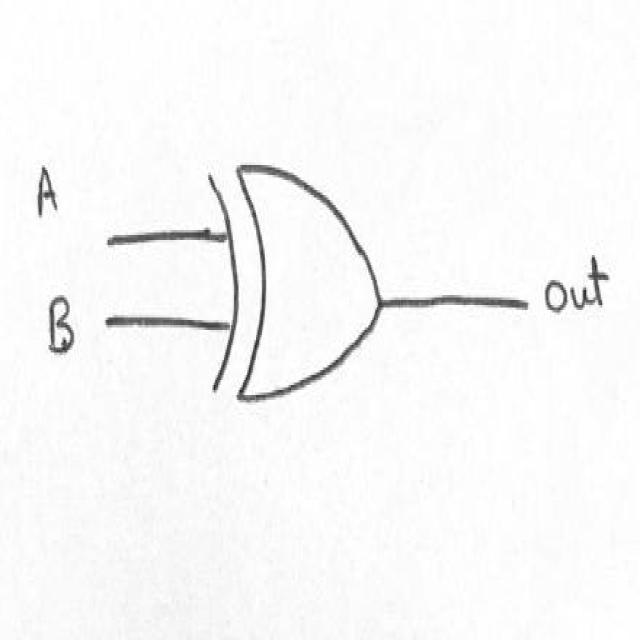XOR: (188, 144, 398, 426)
